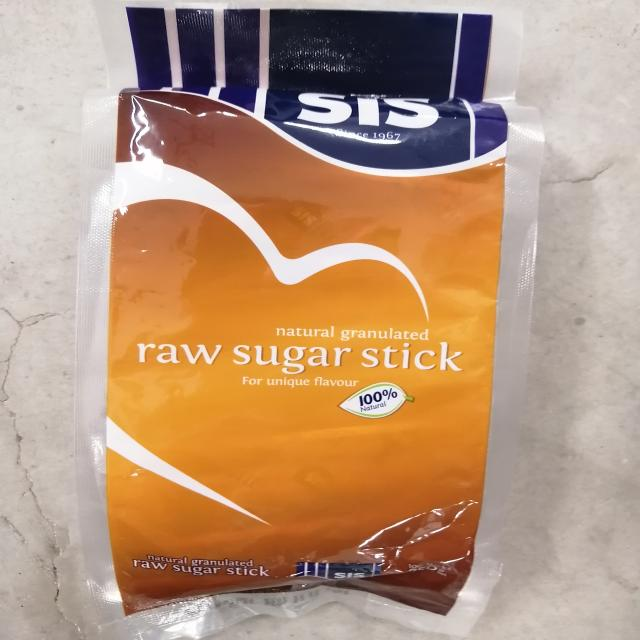object_name: (85, 6, 494, 621)
